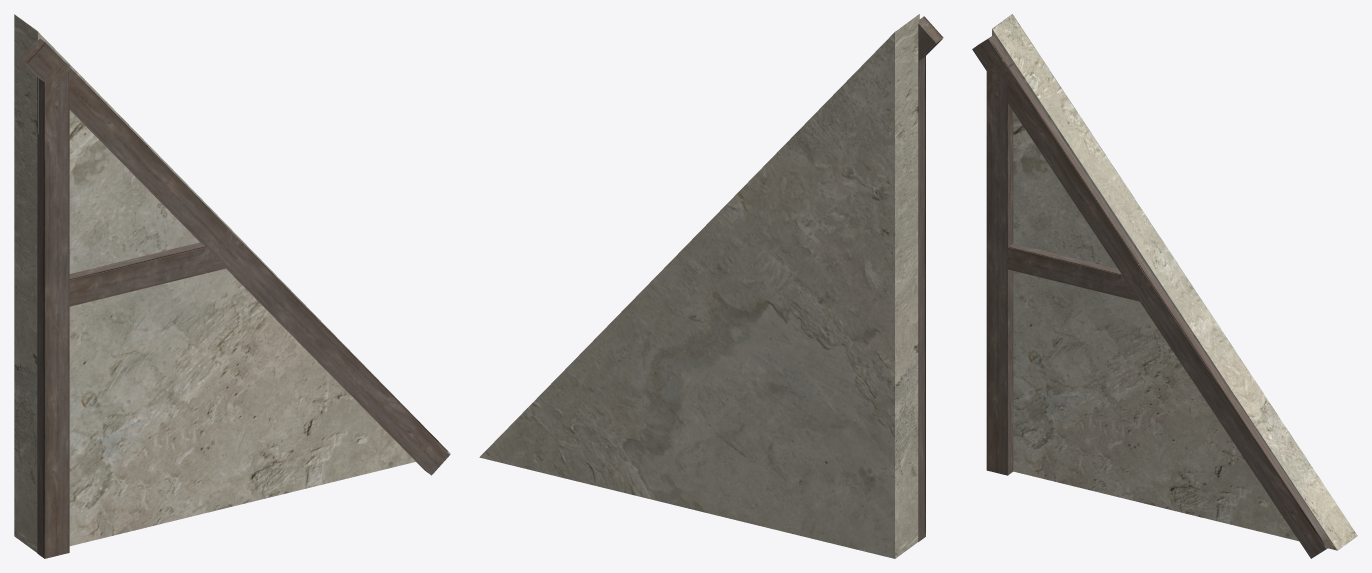
File: pared_1_punta_G_L.fbx
The picture shows the model from 3 angles, left to right: view 1: azimuth 30°, elevation 25°; view 2: azimuth 150°, elevation 25°; view 3: azimuth 330°, elevation 25°; orthographic projection. The views are drawn at different scales.
Visible parts, largest first — view 1: pared_1_punta_G_L; view 2: pared_1_punta_G_L; view 3: pared_1_punta_G_L.
Boxes of the visible parts, bbox=[...] form: pared_1_punta_G_L: bbox=[14, 14, 450, 558]; pared_1_punta_G_L: bbox=[479, 14, 943, 558]; pared_1_punta_G_L: bbox=[972, 14, 1357, 558].
Bounding box in the file's own units: 420 × 498 × 51.68.
